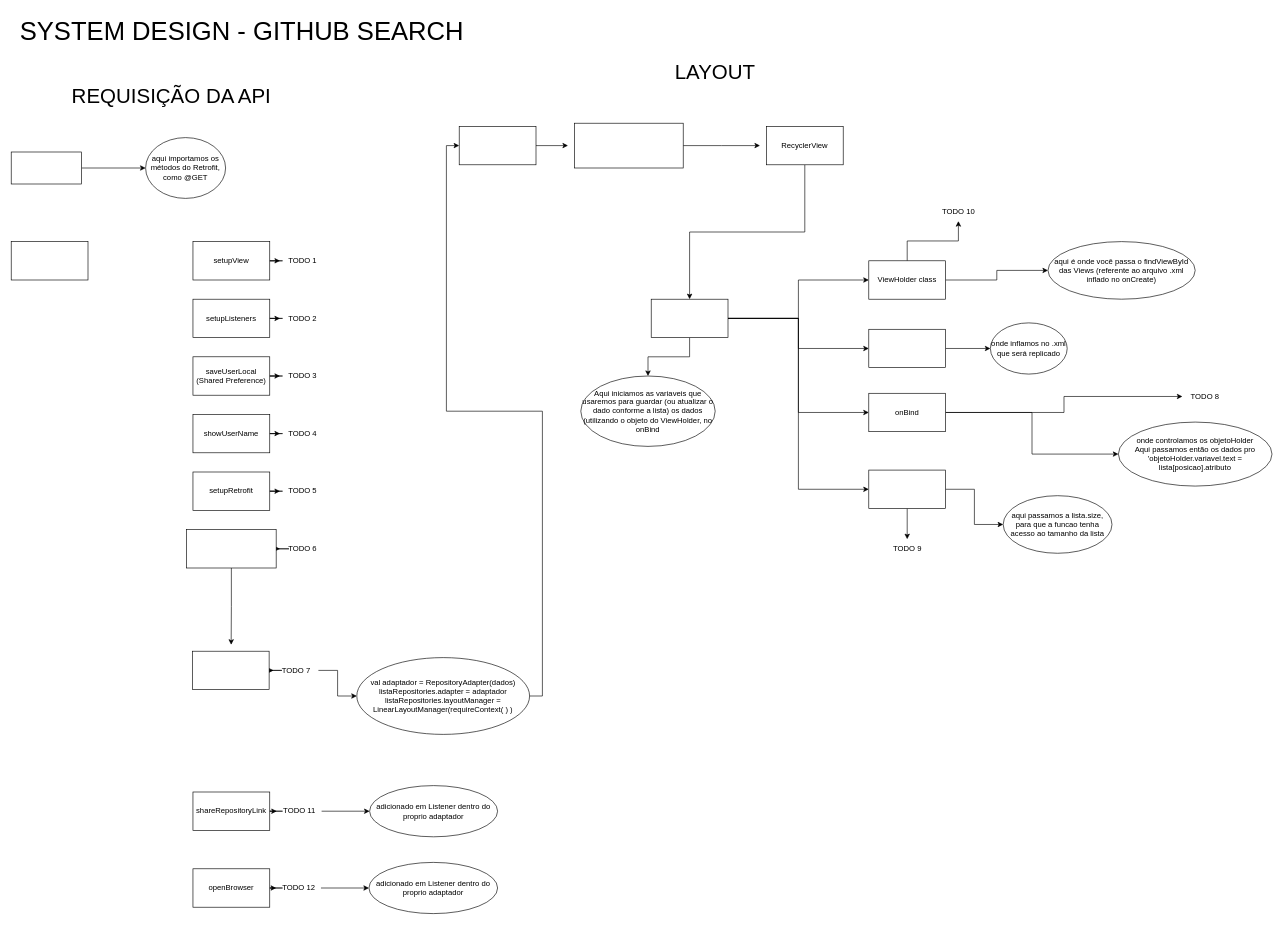
The diagram is 1283 pixels wide and 925 high, and some of its shapes have lost their labels. Each missing label, with the centre of its shape:
ADAPTER class: point 689,318
ARMAZENAMENTO DOS DADOS EM UMA LISTA (com molde) - List<Repository>: point 628,145
getAllRepoByUserName: point 231,548
getItemCount: point 907,488
Interface class: point 46,167
no codigo Kotlin da Activity: point 49,260
onCreate: point 907,348
REQUISICAO CONCLUIDA DA API: point 497,145
setupAdapter: point 230,670
